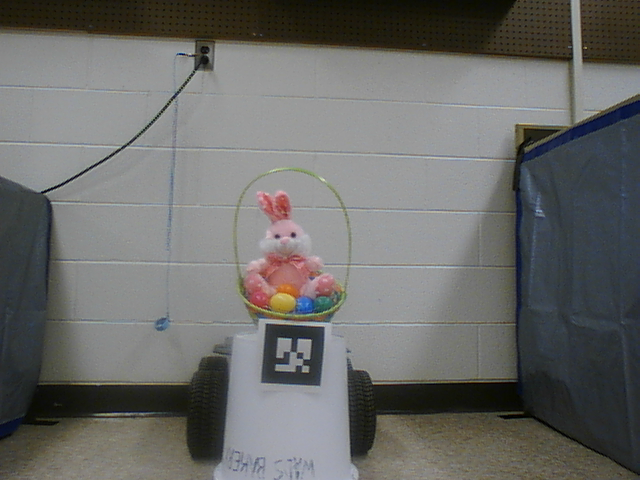bunny: (222, 158, 358, 335)
